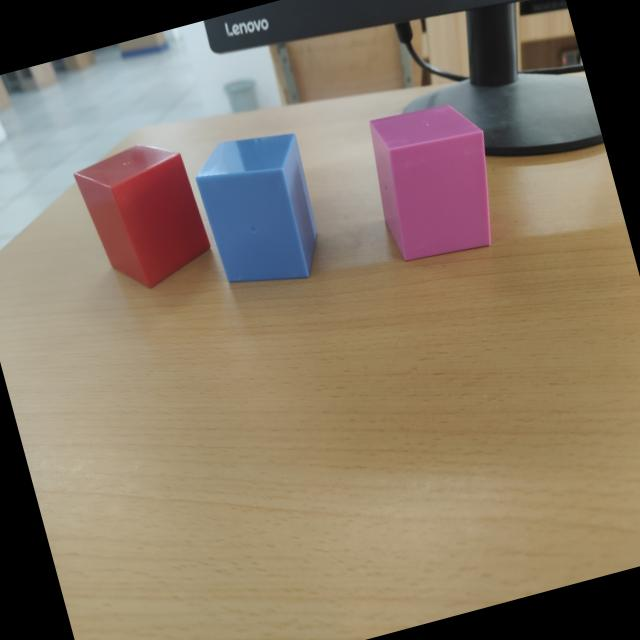blue: (196, 134, 316, 284)
pink: (369, 107, 493, 263)
red: (75, 147, 212, 290)
